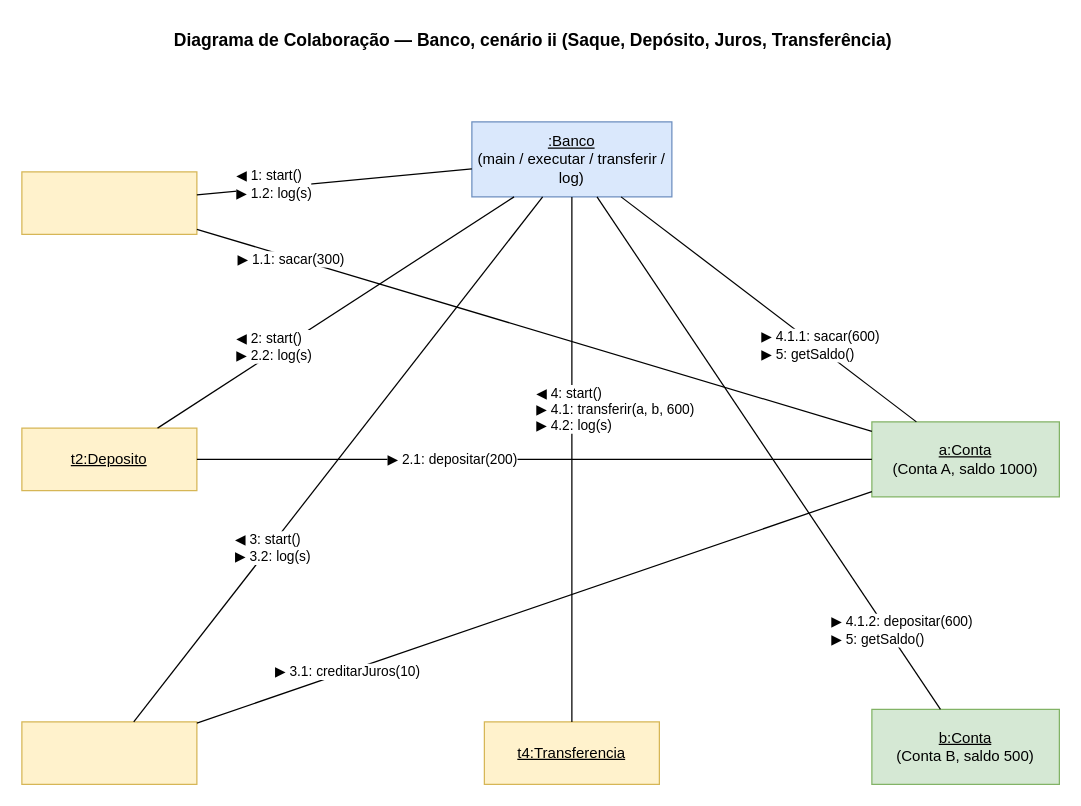
Some shapes in this 1081 by 806 pixel diagram are drawn without their labels. The centre of each missing label's shape, as x and y in pixels:
"t1:Saque" belongs at point 109,202.
"t3:CreditoJuros" belongs at point 109,752.
